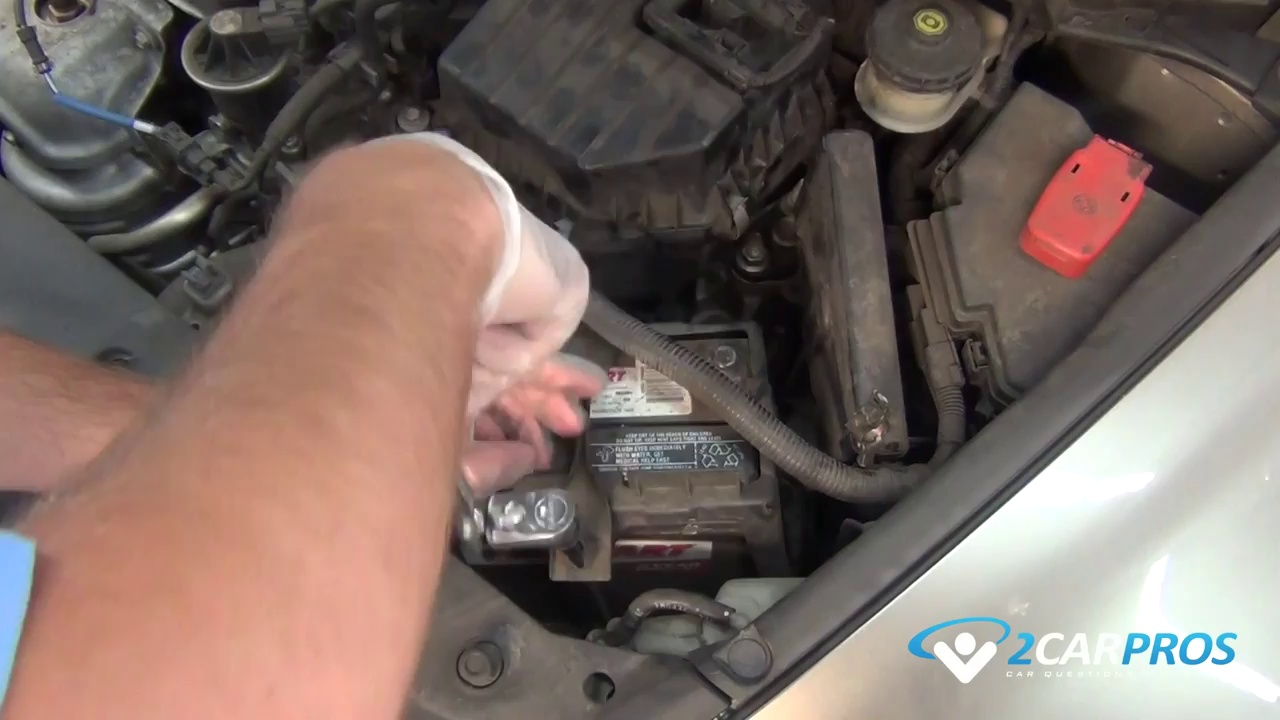battery: (482, 321, 776, 545)
